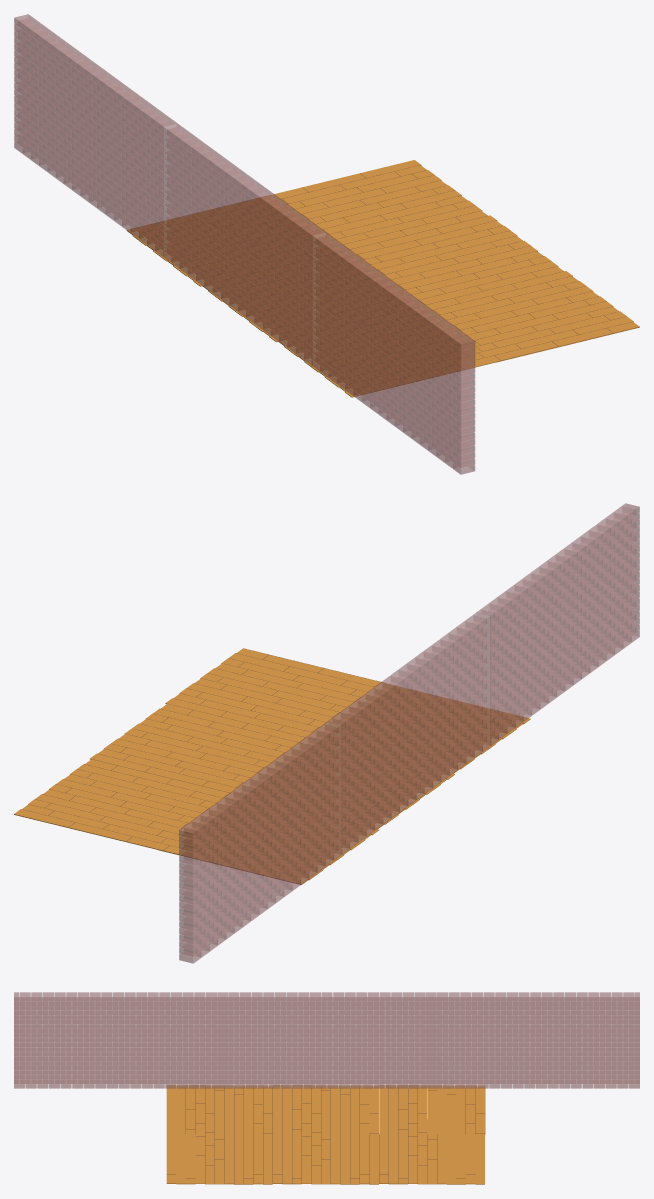
File: garage.glb
3 renders of one model, top to bottom at view 1: azimuth 30°, elevation 25°; view 2: azimuth 150°, elevation 25°; view 3: azimuth 270°, elevation 25°, orthographic. The views are drawn at different scales.
Visible parts, largest first — view 1: merged; view 2: merged; view 3: merged.
Part boxes in pixels (left/top/right/bottom): merged: left=14, top=14, right=639, bottom=474; merged: left=14, top=503, right=639, bottom=963; merged: left=14, top=992, right=639, bottom=1184.
Size of the model in its own units: 8.02 by 3.51 by 21.39.
